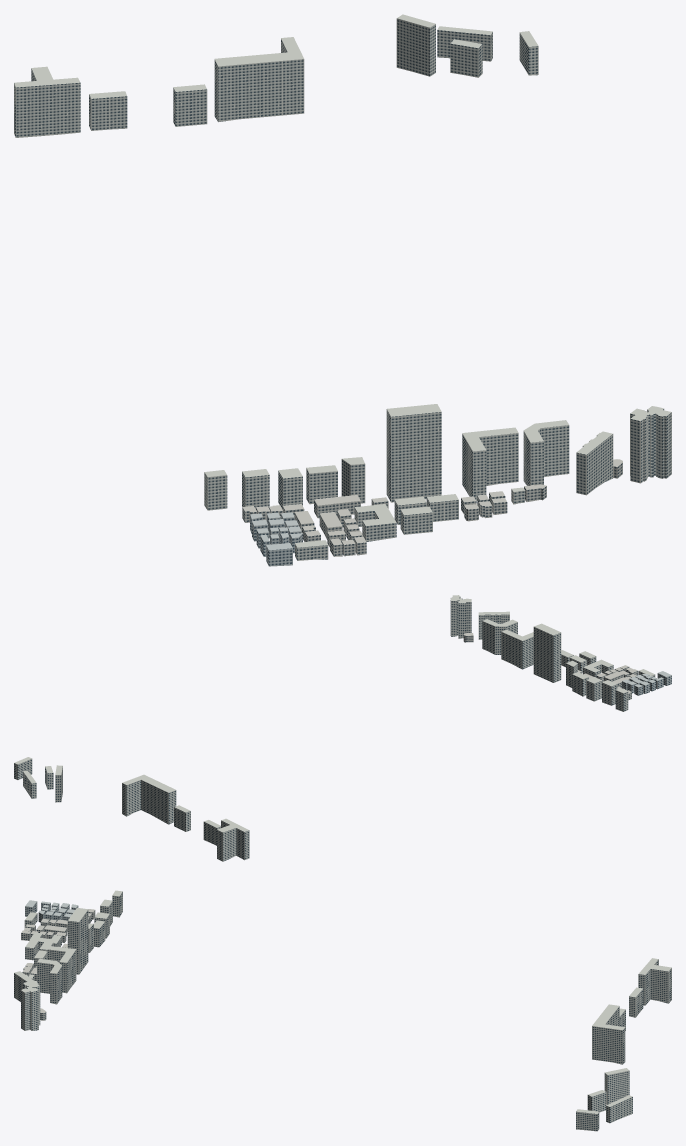
The model's file is city_3_1.glb.
The picture shows the model from 3 angles, top to bottom: view 1: azimuth 30°, elevation 25°; view 2: azimuth 150°, elevation 25°; view 3: azimuth 270°, elevation 25°; orthographic projection. The views are drawn at different scales.
Size of the model in its own units: 802 by 96.58 by 1031.
3 materials, 3 textured.
